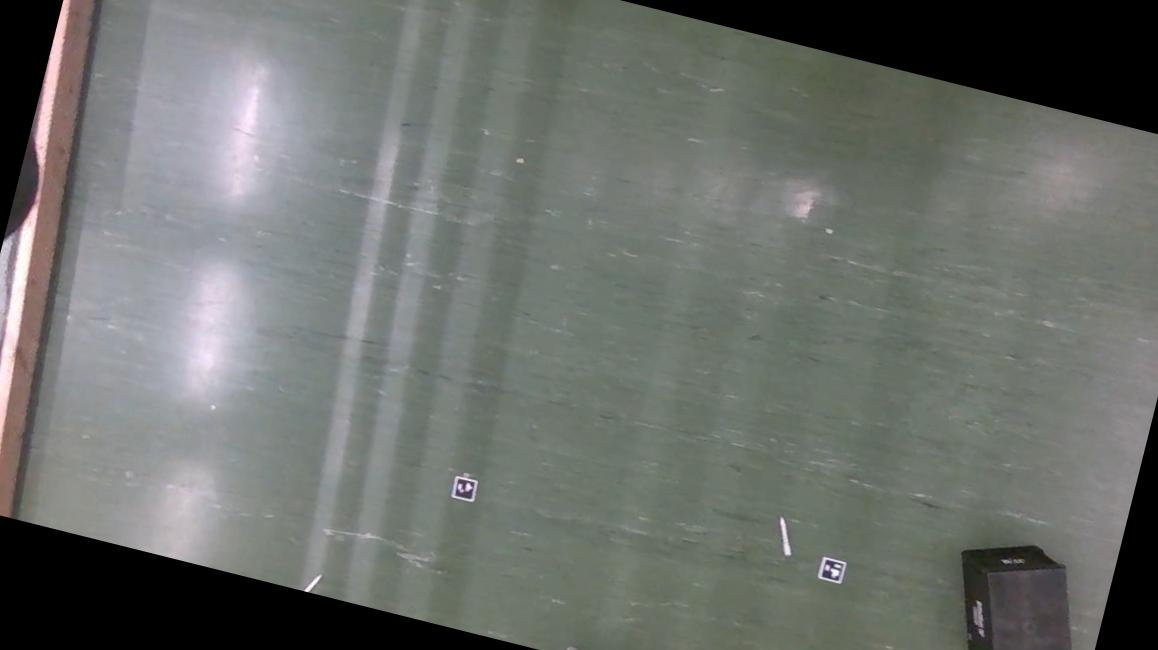probes: (771, 515, 800, 555), (299, 568, 322, 594)
rako: (933, 526, 1104, 650)
